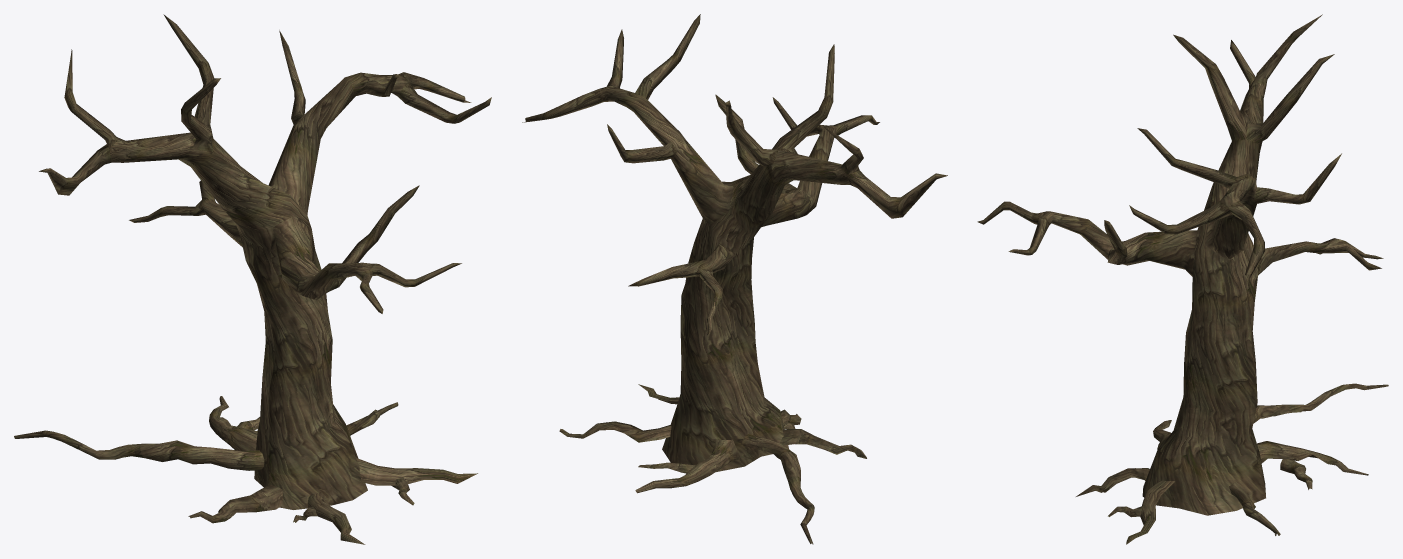
File: Yland2_sg_08 Yland2.FBX
3 views of the same model, side by side, from view 1: azimuth 30°, elevation 25°; view 2: azimuth 150°, elevation 25°; view 3: azimuth 270°, elevation 25° (orthographic). The views are drawn at different scales.
Parts seen in each view (by area): view 1: Yland2_sg_08 Yland2; view 2: Yland2_sg_08 Yland2; view 3: Yland2_sg_08 Yland2.
Boxes of the visible parts, x1,y1,x2,y2 form: Yland2_sg_08 Yland2: (14, 14, 491, 544); Yland2_sg_08 Yland2: (522, 14, 947, 544); Yland2_sg_08 Yland2: (977, 14, 1388, 544).
Bounding box in the file's own units: 25.83 × 25.15 × 22.28.
